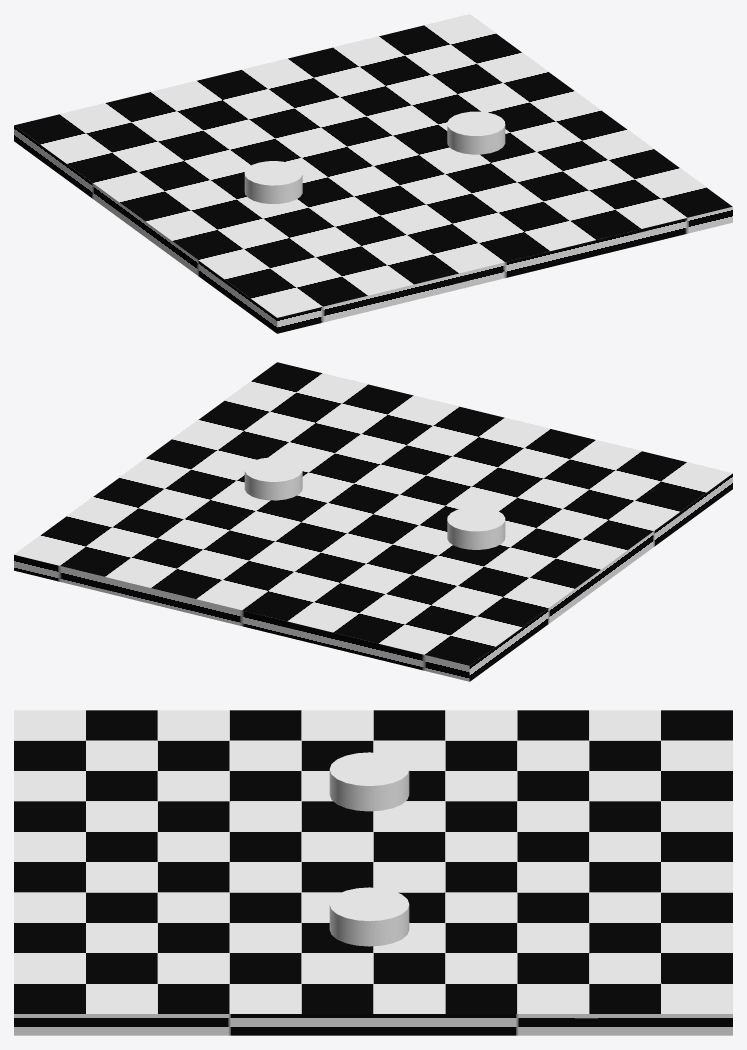
Rendered from tenjo3.fbx.
3 views of the same model, one above another, from view 1: azimuth 30°, elevation 25°; view 2: azimuth 150°, elevation 25°; view 3: azimuth 270°, elevation 25° (orthographic). The views are drawn at different scales.
Visible parts, largest first — view 1: pCube3, pCylinder2, pCylinder3; view 2: pCube3, pCylinder2, pCylinder3; view 3: pCube3, pCylinder3, pCylinder2.
Part boxes in pixels (x1=…): pCube3: x1=14, y1=14, x2=732, y2=333; pCylinder2: x1=447, y1=111, x2=505, y2=154; pCylinder3: x1=244, y1=161, x2=302, y2=203; pCube3: x1=14, y1=362, x2=732, y2=681; pCylinder2: x1=244, y1=457, x2=302, y2=500; pCylinder3: x1=447, y1=507, x2=505, y2=549; pCube3: x1=14, y1=710, x2=732, y2=1035; pCylinder3: x1=329, y1=752, x2=409, y2=811; pCylinder2: x1=329, y1=887, x2=409, y2=946.
Size of the model in its own units: 900 by 100 by 900.
Materials: 2 (1 with a texture image).
